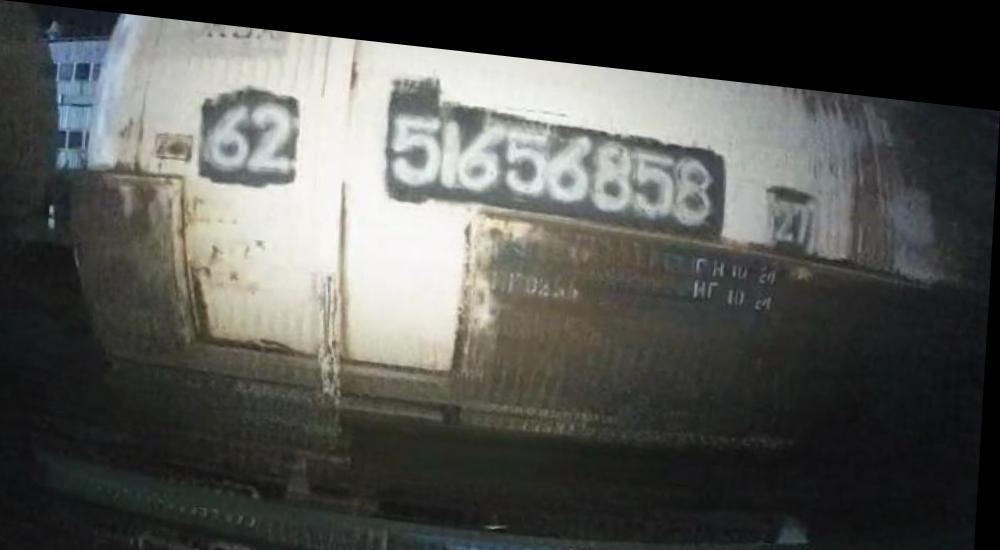Wagon-number: (381, 100, 721, 221)
